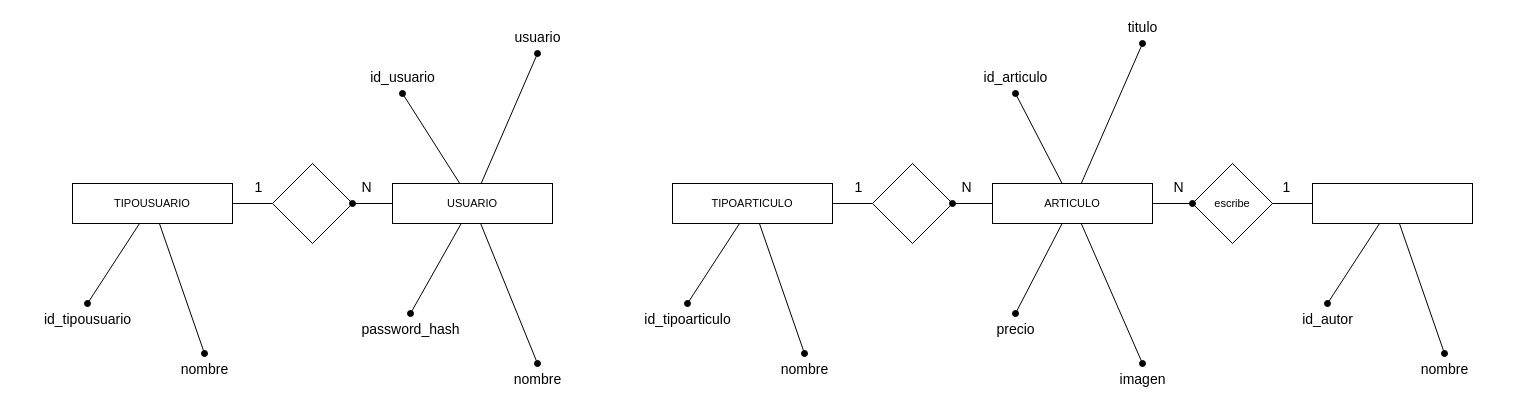
Image size: 1531x406. Some labels were removed from this diagram. Here are the shapes that lost their labels. From the top down, the centre of each, then its label:
(x=312, y=203): tiene
(x=912, y=203): clasifica
(x=1392, y=203): AUTOR
